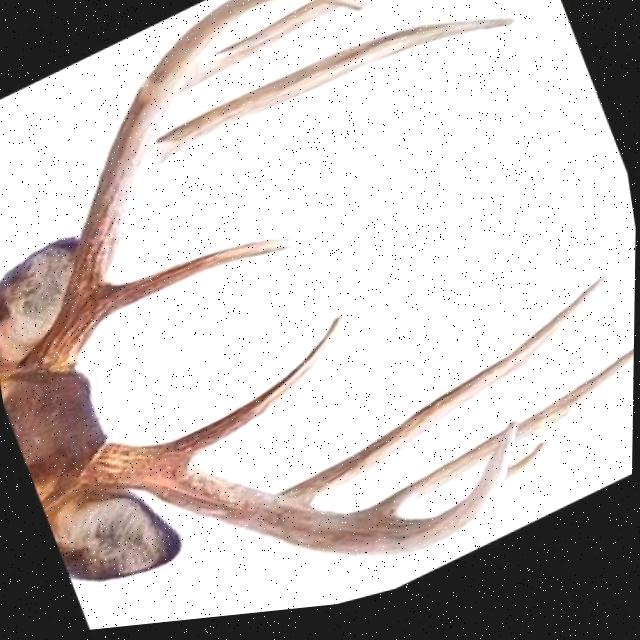E1: (509, 451, 550, 489)
L-F: (32, 0, 362, 371)
L-G1: (95, 244, 295, 329)
L-G2: (157, 26, 519, 169)
R-F: (81, 431, 521, 565)
R-G1: (160, 322, 343, 460)
R-G2: (276, 285, 611, 510)
